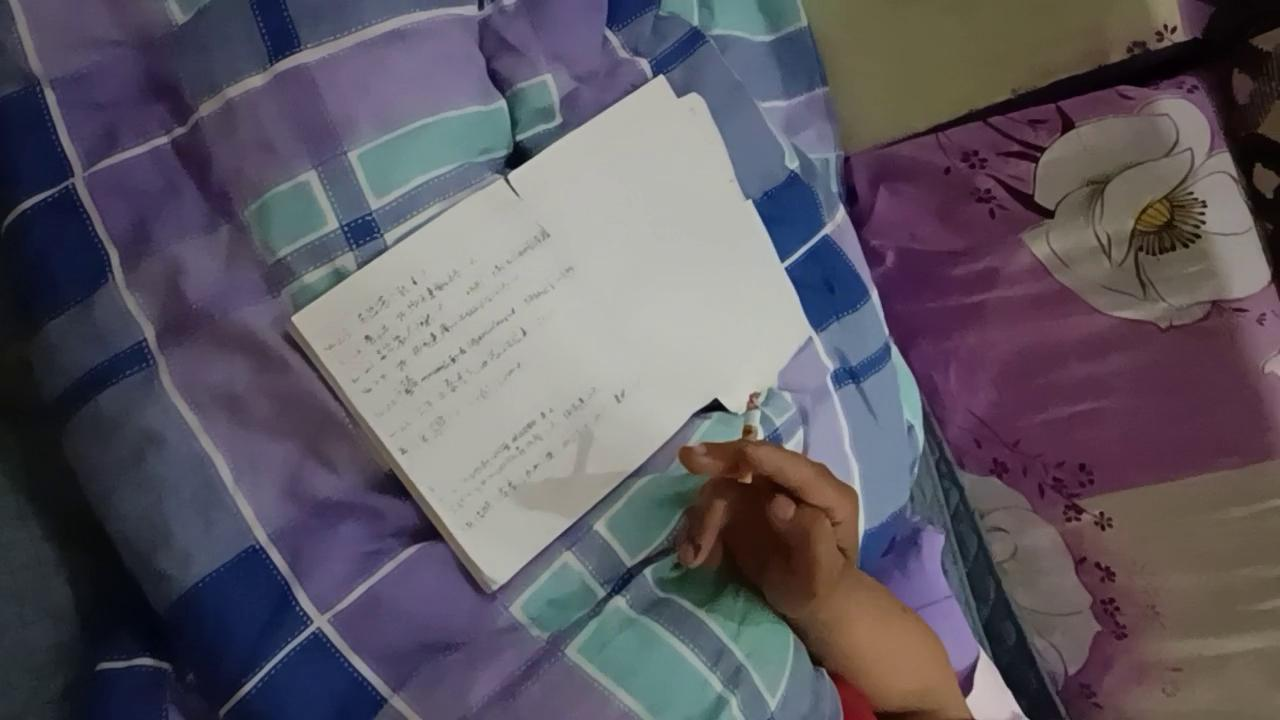smoke: (736, 392, 763, 485)
